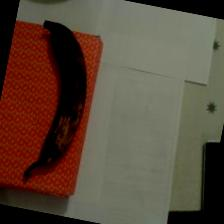Banana Rotten: (12, 4, 108, 186)
